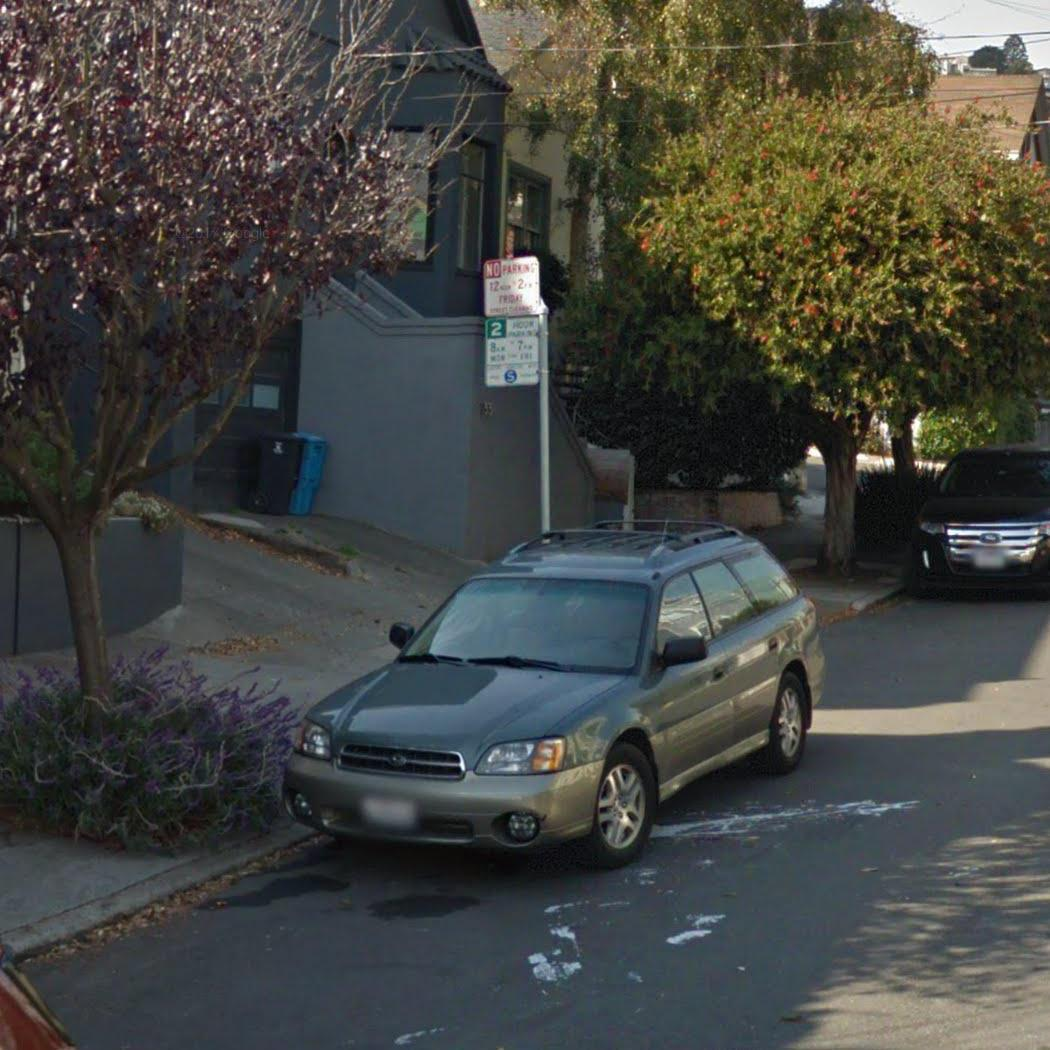2 Hour Parking: (482, 316, 541, 389)
No Parking: (481, 254, 543, 316)
